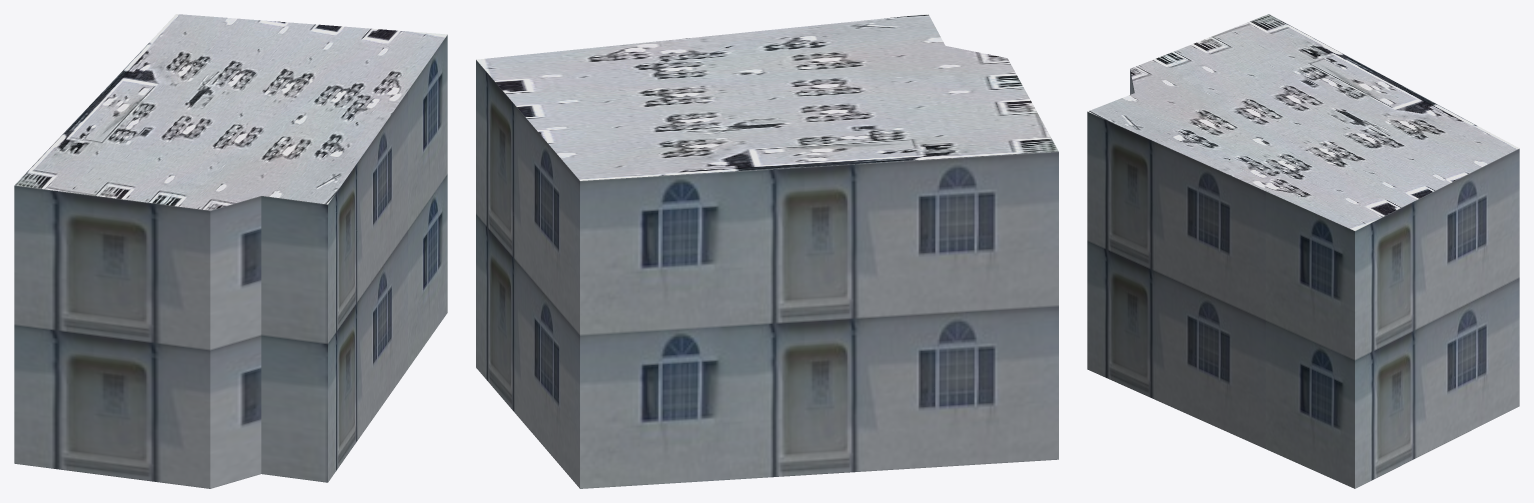
The model's file is ResTex__2820.fbx.
The picture shows the model from 3 angles, left to right: view 1: azimuth 30°, elevation 25°; view 2: azimuth 150°, elevation 25°; view 3: azimuth 270°, elevation 25°; orthographic projection. The views are drawn at different scales.
Visible parts, largest first — view 1: CityEngineMaterial_17_m, CityEngineMaterial_m; view 2: CityEngineMaterial_17_m, CityEngineMaterial_m; view 3: CityEngineMaterial_17_m, CityEngineMaterial_m.
Boxes of the visible parts, box(x1,y1,x2,y2) form: CityEngineMaterial_17_m: box(14, 35, 447, 488); CityEngineMaterial_m: box(14, 14, 447, 210); CityEngineMaterial_17_m: box(476, 60, 1058, 488); CityEngineMaterial_m: box(476, 14, 1058, 180); CityEngineMaterial_17_m: box(1087, 69, 1519, 488); CityEngineMaterial_m: box(1088, 14, 1519, 230).
Size of the model in its own units: 10.83 by 6 by 9.12.
2 materials, 2 textured.
